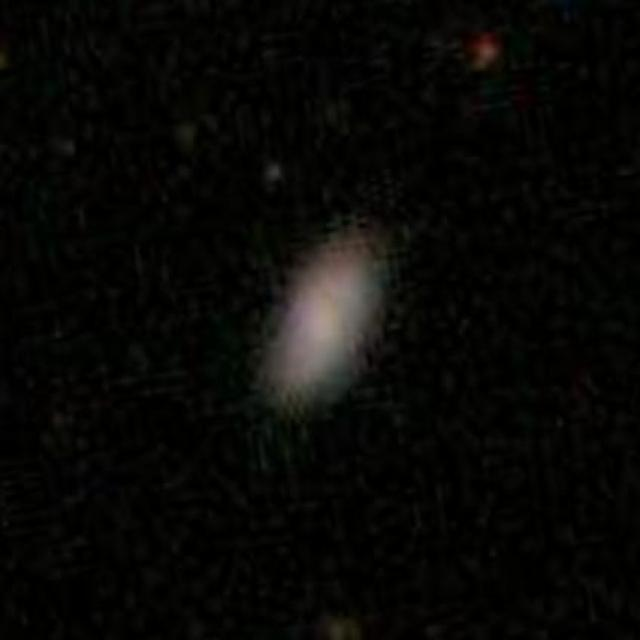galaxy: (240, 210, 404, 436), (469, 33, 504, 76), (264, 162, 287, 185)
